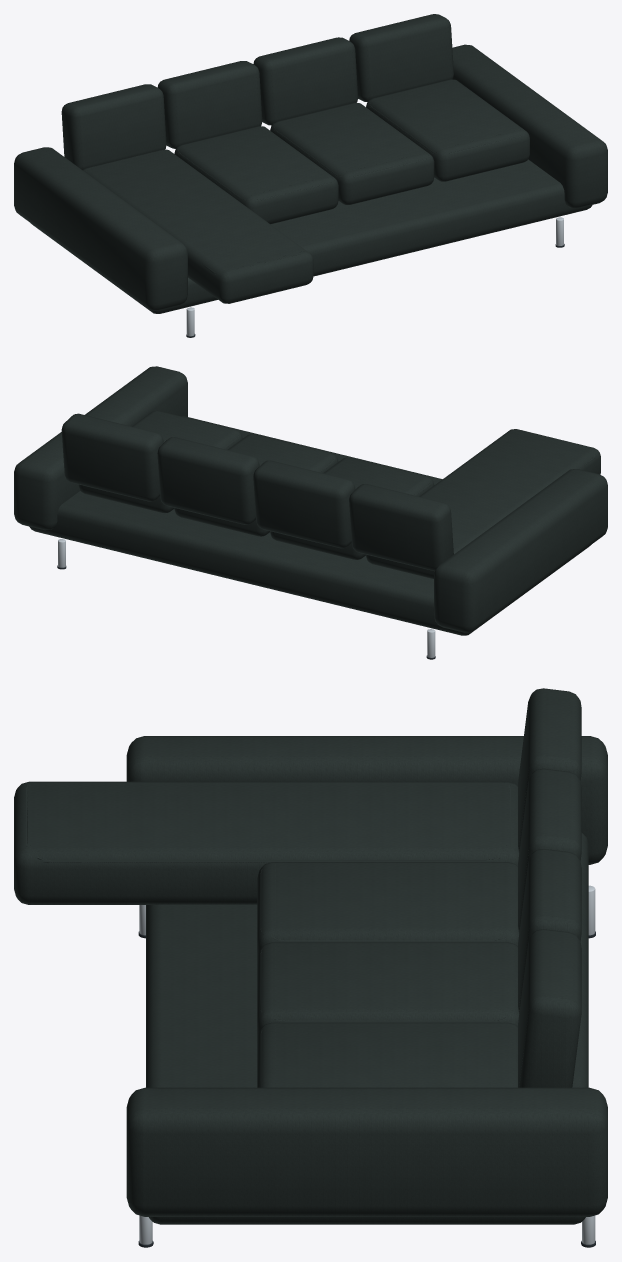
File: left-chaise-sectional.glb
3 views of the same model, one above another, from view 1: azimuth 30°, elevation 25°; view 2: azimuth 150°, elevation 25°; view 3: azimuth 270°, elevation 25° (orthographic). The views are drawn at different scales.
Visible parts, largest first — view 1: left-chaise-sectional authored assembly; view 2: left-chaise-sectional authored assembly; view 3: left-chaise-sectional authored assembly.
Part boxes in pixels (box(x1,y1,x2,y2)): left-chaise-sectional authored assembly: box(14, 14, 607, 337); left-chaise-sectional authored assembly: box(14, 366, 607, 659); left-chaise-sectional authored assembly: box(14, 688, 607, 1247).
Size of the model in its own units: 2.85 by 0.85 by 1.85.
Materials: 4 (1 with a texture image).
